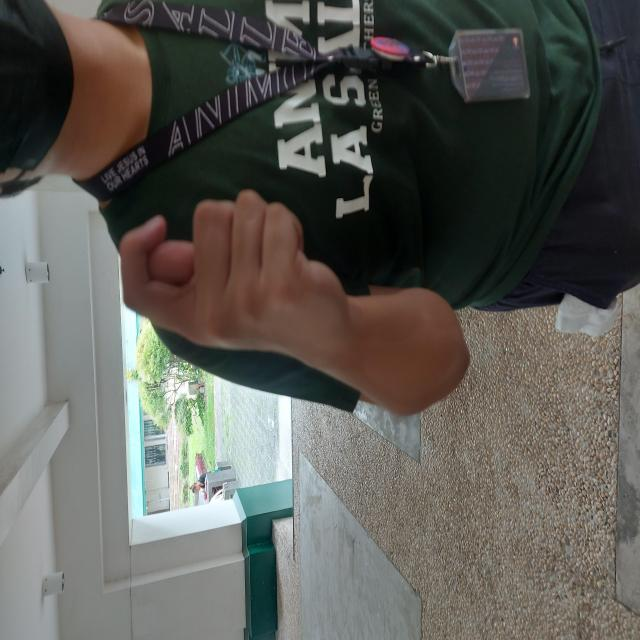T: (284, 118, 452, 352)
